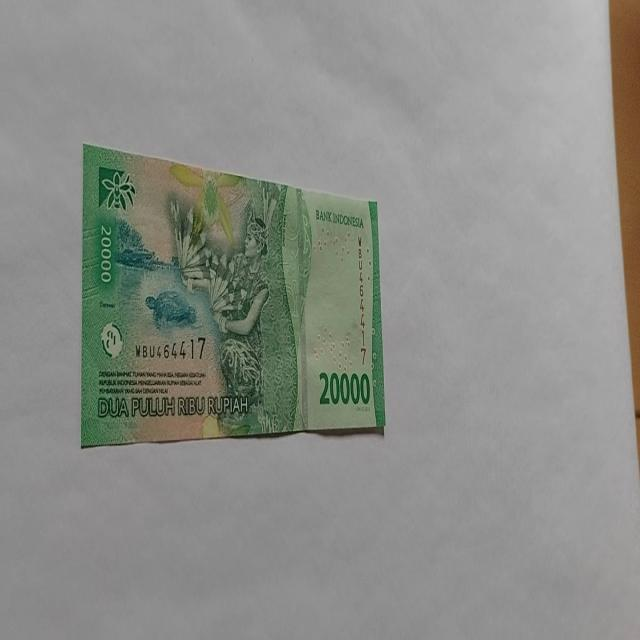dua puluh ribu rupiah: (80, 141, 387, 448)
